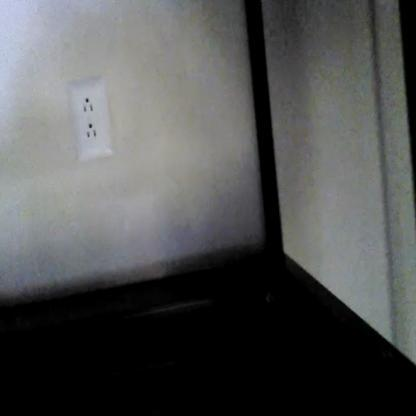OUTLET: (72, 84, 108, 162)
